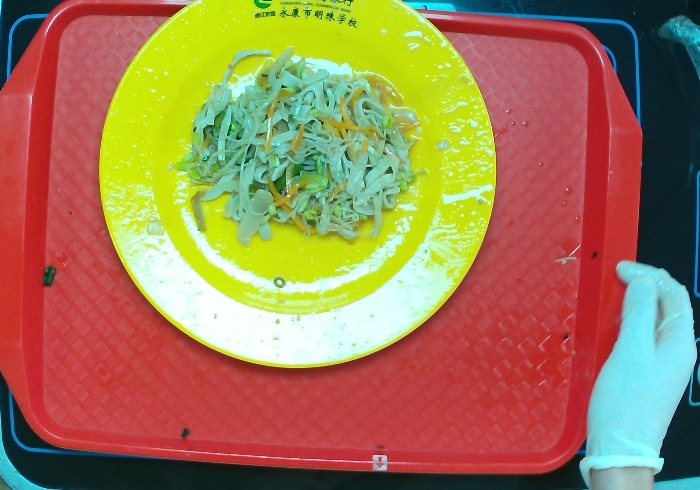YKMZ-Huang_Se_Mian_Pan: (93, 2, 496, 372)
